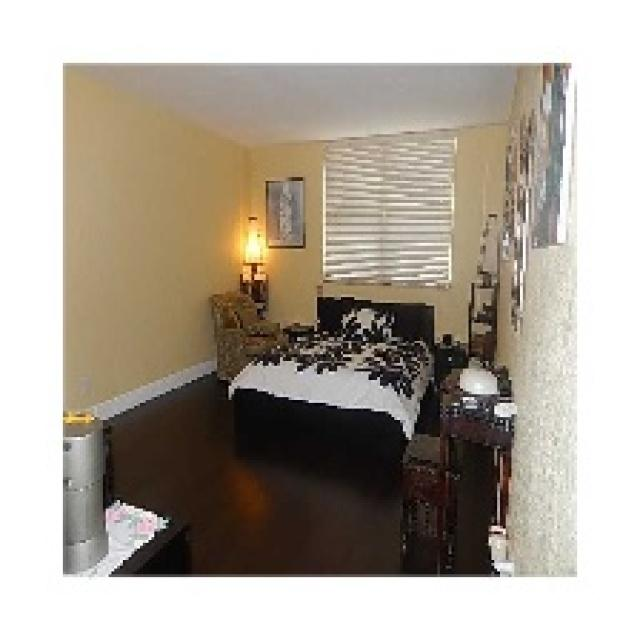Bed: (226, 294, 434, 460)
